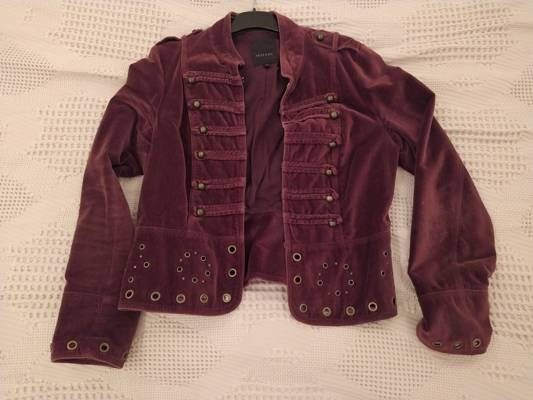Blazer: (56, 13, 506, 376)
